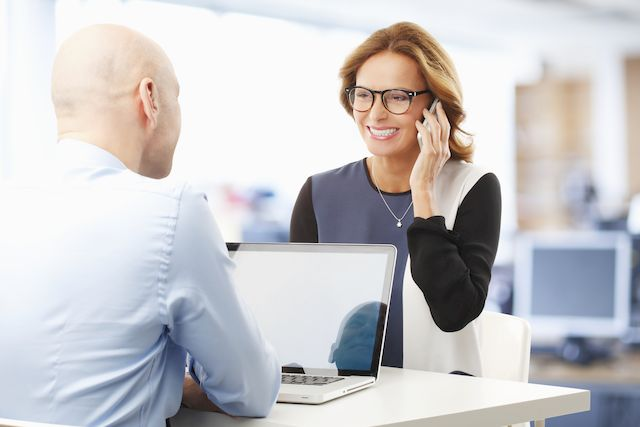phone: (415, 99, 451, 149)
talk: (348, 80, 456, 196)
